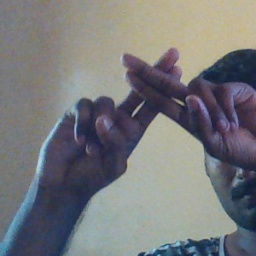F: (80, 32, 225, 149)
